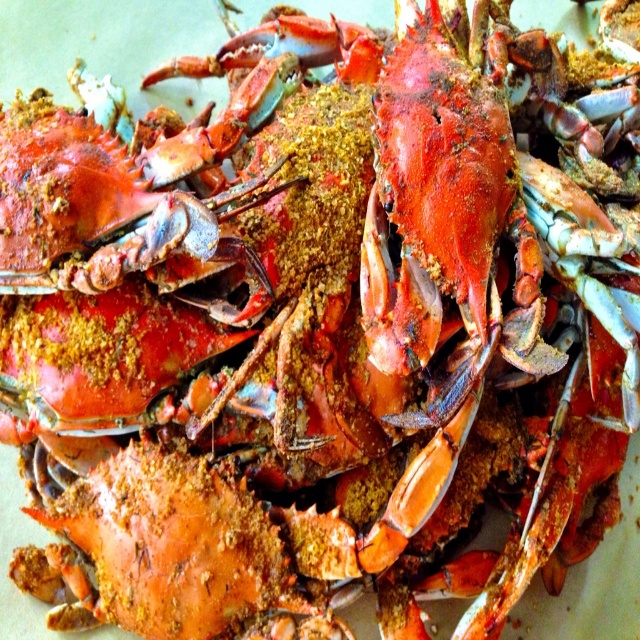Crab: (0, 1, 640, 640)
